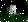person: (8, 6, 16, 15)
